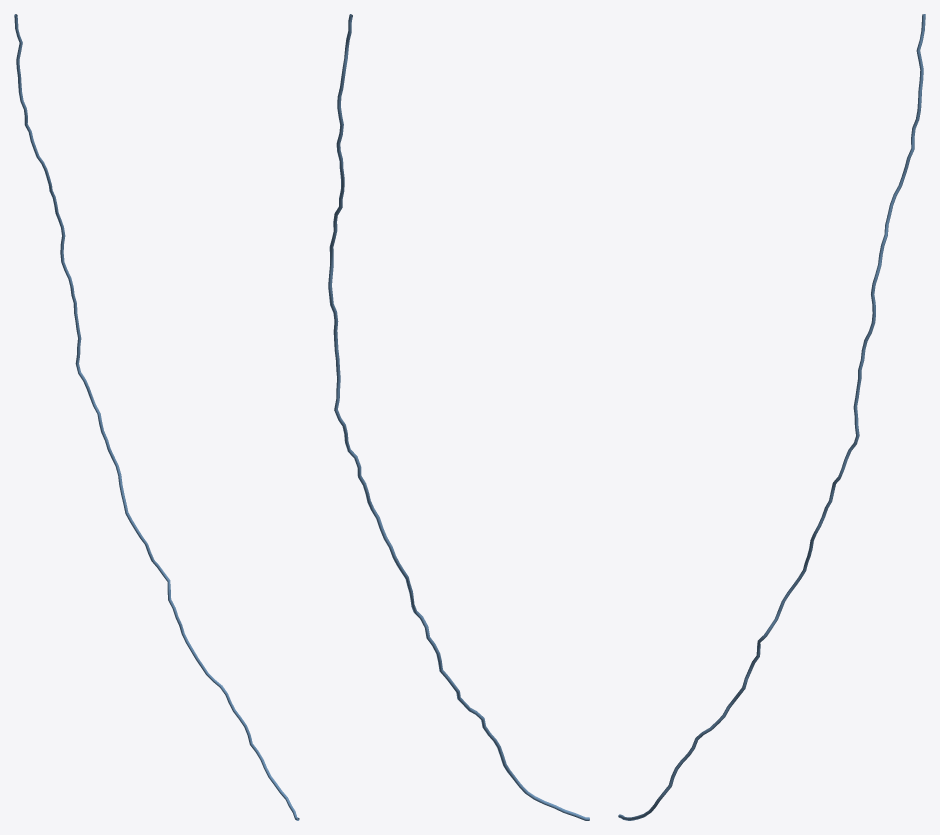
The model's file is sweep322.fbx.
The picture shows the model from 3 angles, left to right: view 1: azimuth 90°, elevation 25°; view 2: azimuth 150°, elevation 25°; view 3: azimuth 270°, elevation 25°; orthographic projection. The views are drawn at different scales.
Parts seen in each view (by area): view 1: sweep322; view 2: sweep322; view 3: sweep322.
Part boxes in pixels (<box>): sweep322: <box>14,14,299,820</box>; sweep322: <box>328,14,589,820</box>; sweep322: <box>618,14,925,820</box>.
Size of the model in its own units: 0.7457 by 5.12 by 1.7.
